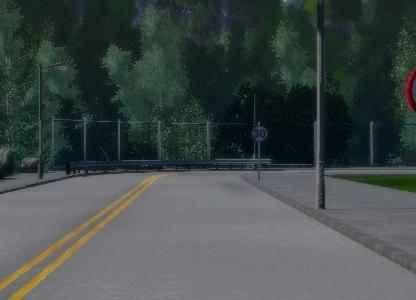Speed_60: (403, 57, 416, 121)
